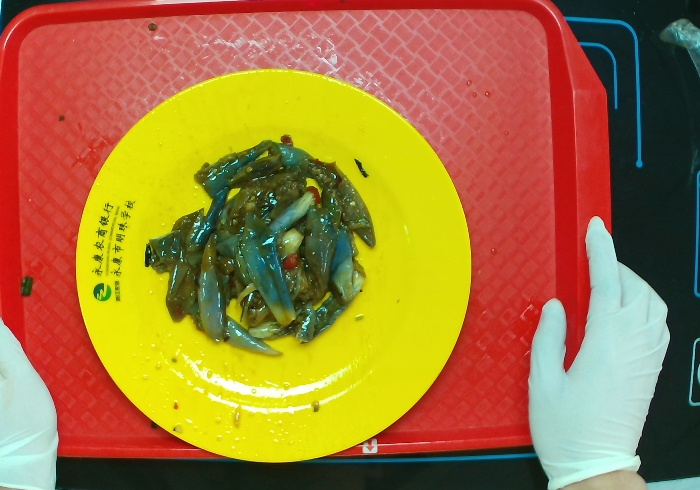YKMZ-Huang_Se_Mian_Pan: (75, 69, 473, 467)
